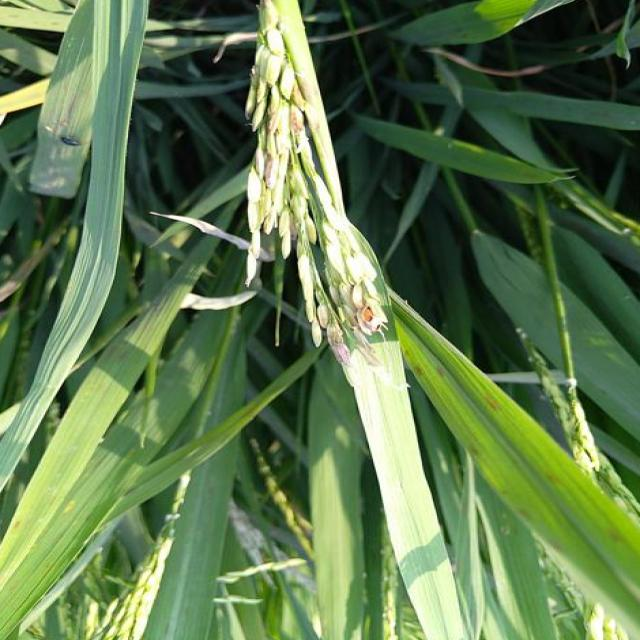Panicle Blight: (245, 42, 321, 261), (306, 261, 389, 364), (261, 193, 317, 243)
